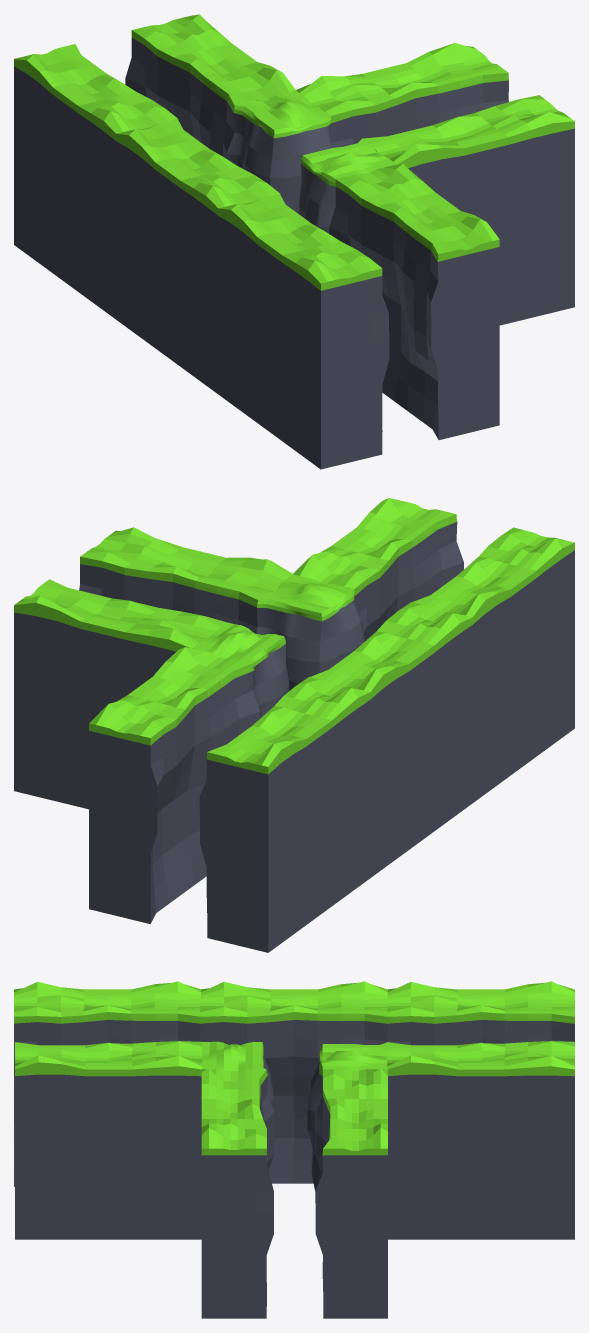
The model's file is BlockSet7.dae.
3 views of the same model, one above another, from view 1: azimuth 30°, elevation 25°; view 2: azimuth 150°, elevation 25°; view 3: azimuth 270°, elevation 25° (orthographic). The views are drawn at different scales.
Parts seen in each view (by area): view 1: BlockSet7Fin; view 2: BlockSet7Fin; view 3: BlockSet7Fin.
Boxes of the visible parts, x1=… form: BlockSet7Fin: x1=14, y1=14, x2=574, y2=469; BlockSet7Fin: x1=14, y1=498, x2=574, y2=952; BlockSet7Fin: x1=14, y1=981, x2=574, y2=1318.
Size of the model in its own units: 312 by 166 by 465.
